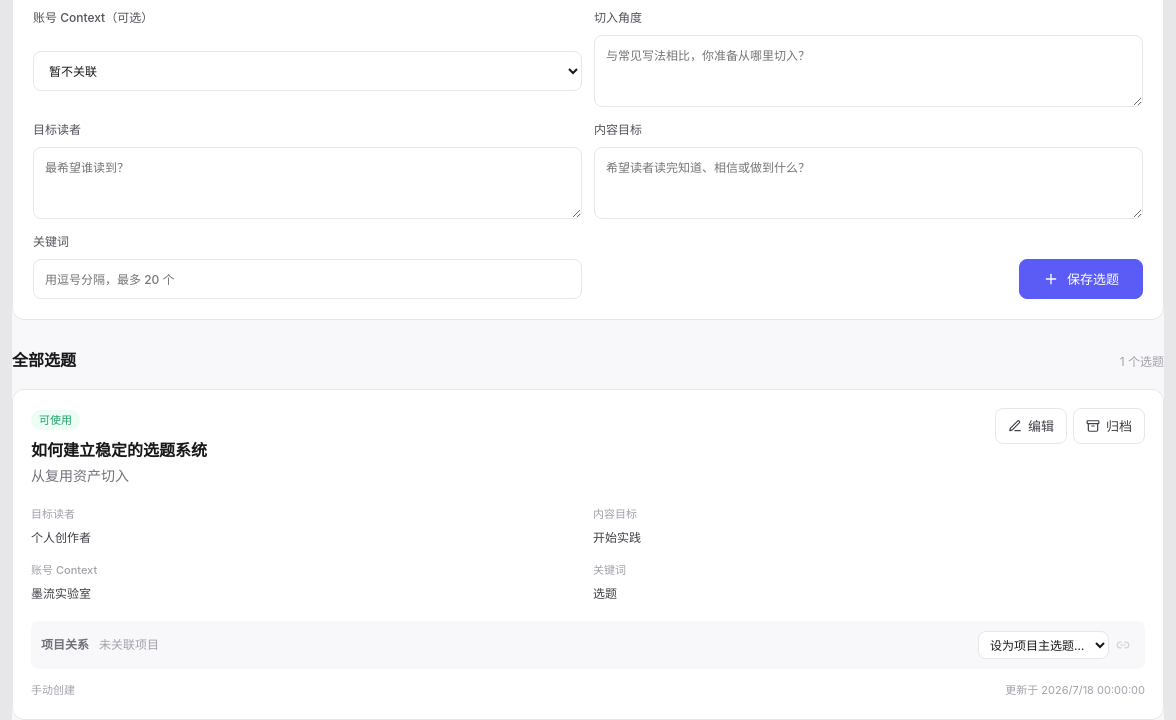
Test case: TopicWorkspace › links and unlinks a project while preserving the topic
The width and height of the screenshot is (1176, 720).
(page scrolled)
Select "本地创作实践" in the dropdown named "为 如何建立稳定的选题系统 选择项目" at (1044, 645), box [978,631,1109,659]
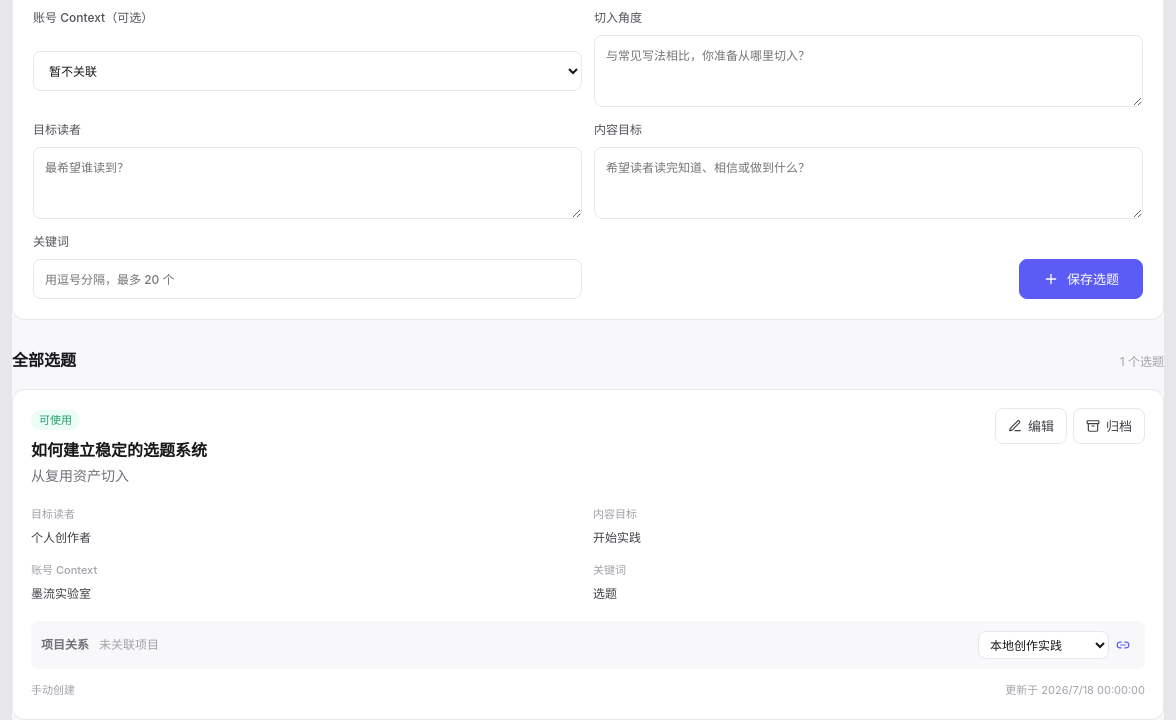
Click the button named "关联项目" at (1123, 645), box [1111,633,1135,657]
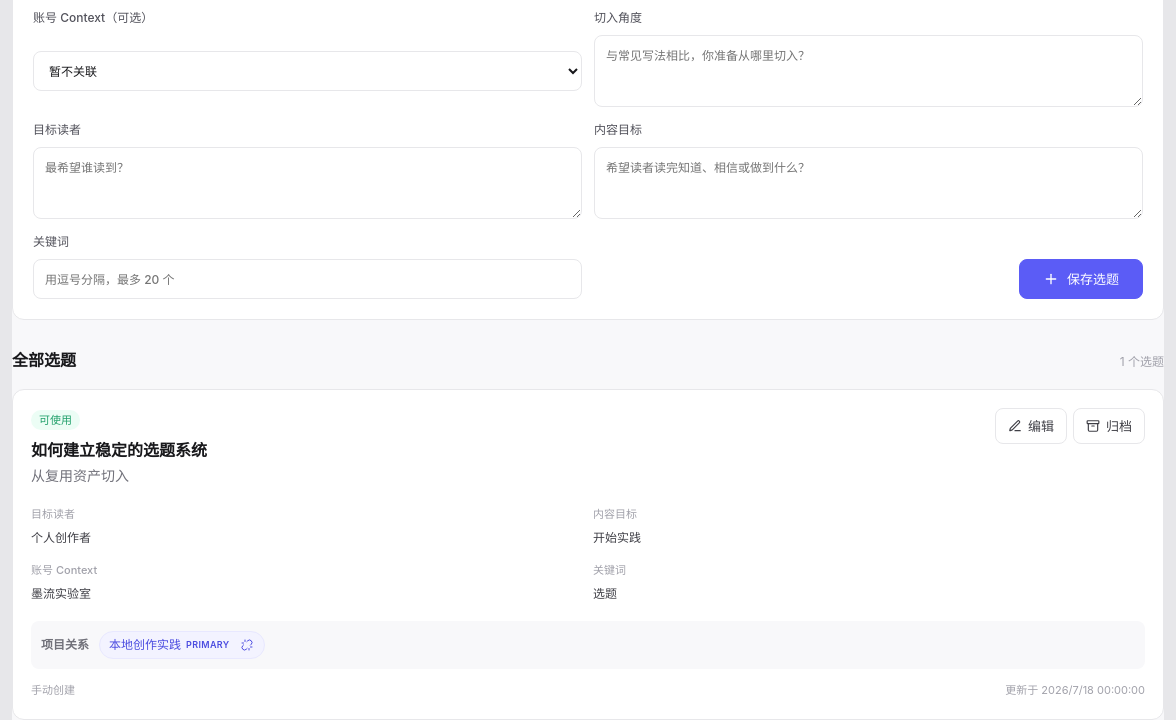
Expected: the text "Primary" is shown, [186,639,230,650]
Click the button named "解除与 本地创作实践 的关联" at (247, 645), box [235,633,259,657]
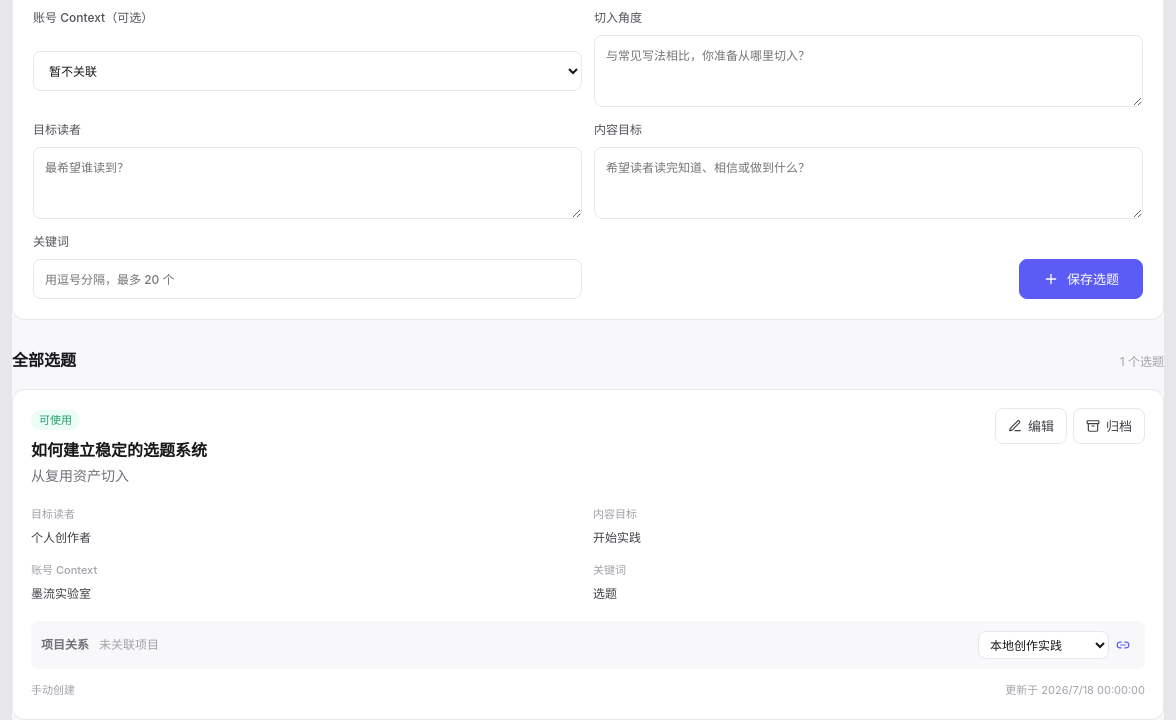
Expected: the heading "如何建立稳定的选题系统" is shown, [31,440,207,460]
Expected: the text "未关联项目" is shown, [99,634,159,656]
